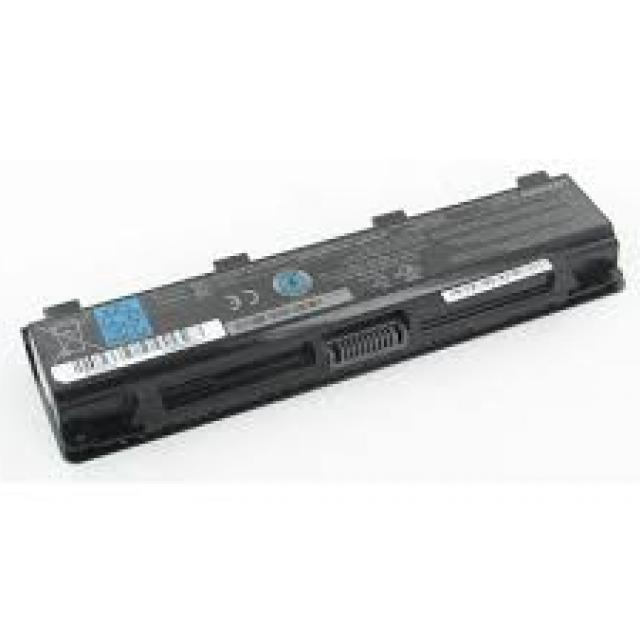battery: (18, 166, 626, 462)
